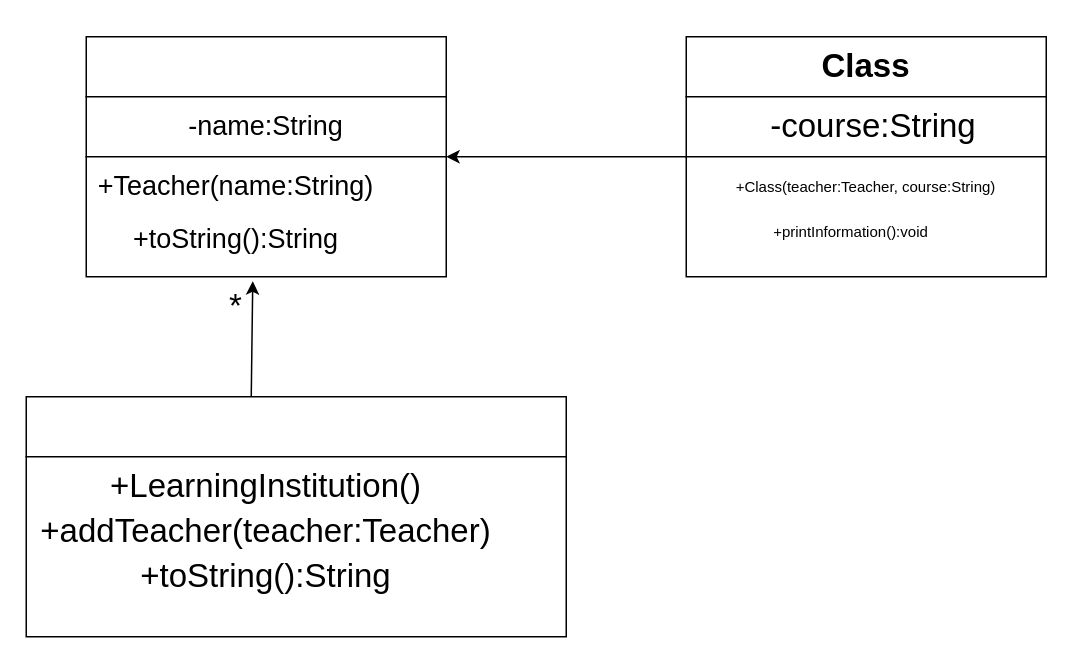
This 1073x663 diagram has some shape labels left out. Here are the shapes that lost their labels. From the top down, the box of each, then its label:
(85, 35, 446, 97): Teacher
(25, 395, 566, 457): LearningInstitution
